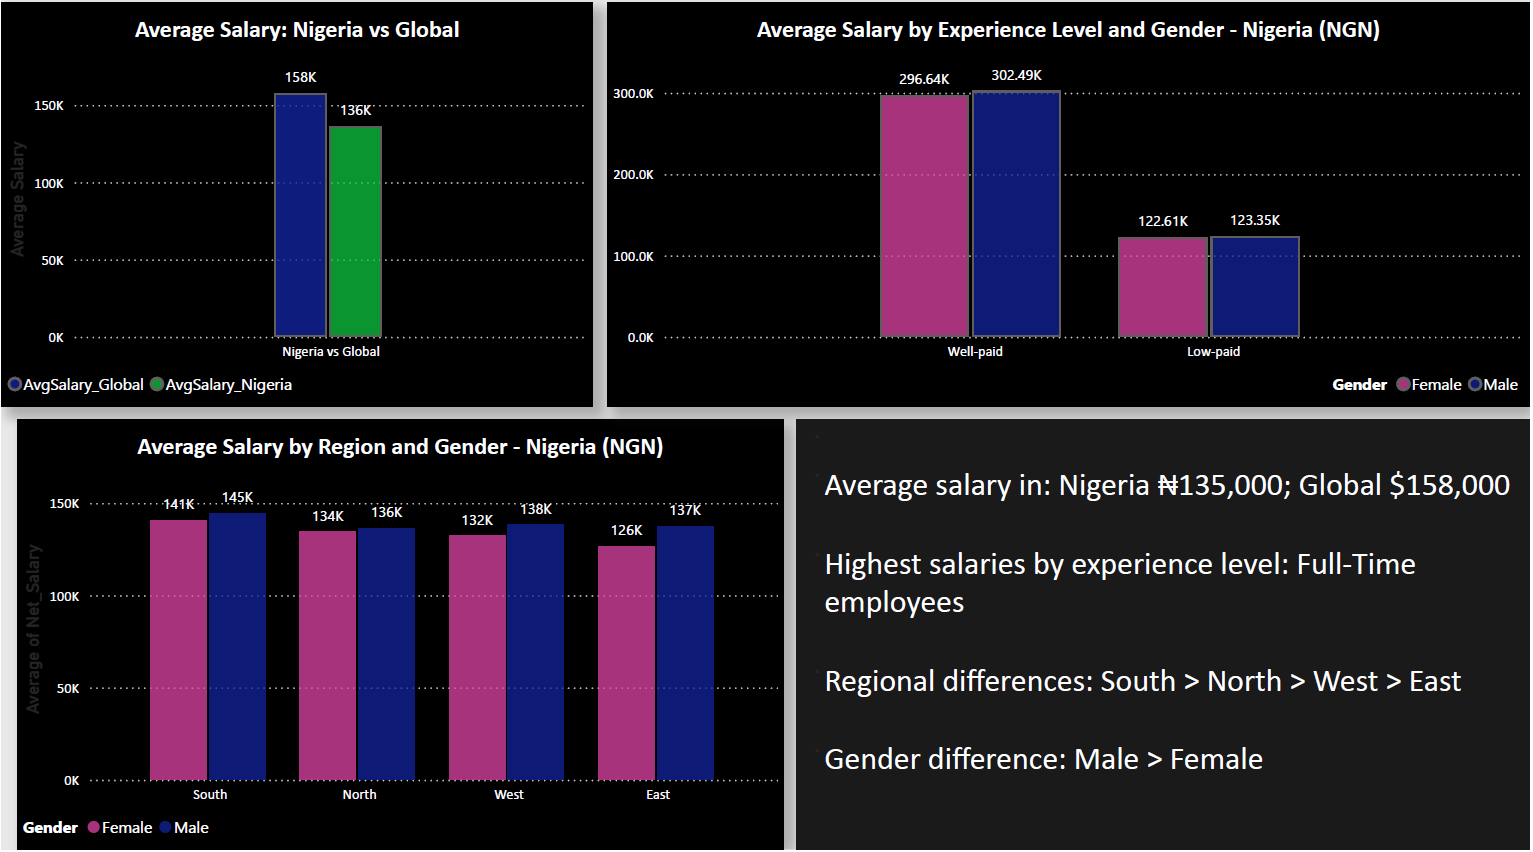

What the dashboard file says about the page in this screenshot:
{"tool":"powerbi","page":{"name":"Page 1","canvas":[1280,720],"ordinal":0},"visuals":[{"type":"clusteredColumnChart","title":"Average Salary: Nigeria vs Global","fields":{"Category":["global_salaries.Country"],"Y":["global_salaries.AvgSalary_Global","nigerian_graduates.AvgSalary_Nigeria"]},"box":[0,11,495.2,337.5],"z":0},{"type":"clusteredColumnChart","title":"Average Salary by Region and Gender - Nigeria (NGN)","fields":{"Category":["nigerian_graduates.Region"],"Y":["Avg(nigerian_graduates.Net_Salary)"],"Series":["nigerian_graduates.Gender"]},"box":[13.5,359.5,642,360.7],"z":1000},{"type":"clusteredColumnChart","title":"Average Salary by Experience Level and Gender - Nigeria (NGN)","fields":{"Category":["nigerian_graduates.Salary_Level"],"Y":["Avg(nigerian_graduates.Net_Salary)"],"Series":["nigerian_graduates.Gender"]},"box":[507.5,11,772.8,337.5],"z":2000},{"type":"textbox","box":[666.4,359.5,613.9,360.7],"z":3000}]}

Visuals, with their boxes in screenshot pixels (x1, y1, x2, y2), scaled from the page's 1280x720 canvas onto the 1533x852 screenshot:
"Average Salary: Nigeria vs Global" clusteredColumnChart: bbox=(0, 13, 593, 412)
"Average Salary by Region and Gender - Nigeria (NGN)" clusteredColumnChart: bbox=(16, 425, 785, 851)
"Average Salary by Experience Level and Gender - Nigeria (NGN)" clusteredColumnChart: bbox=(608, 13, 1532, 412)
textbox: bbox=(798, 425, 1532, 851)
